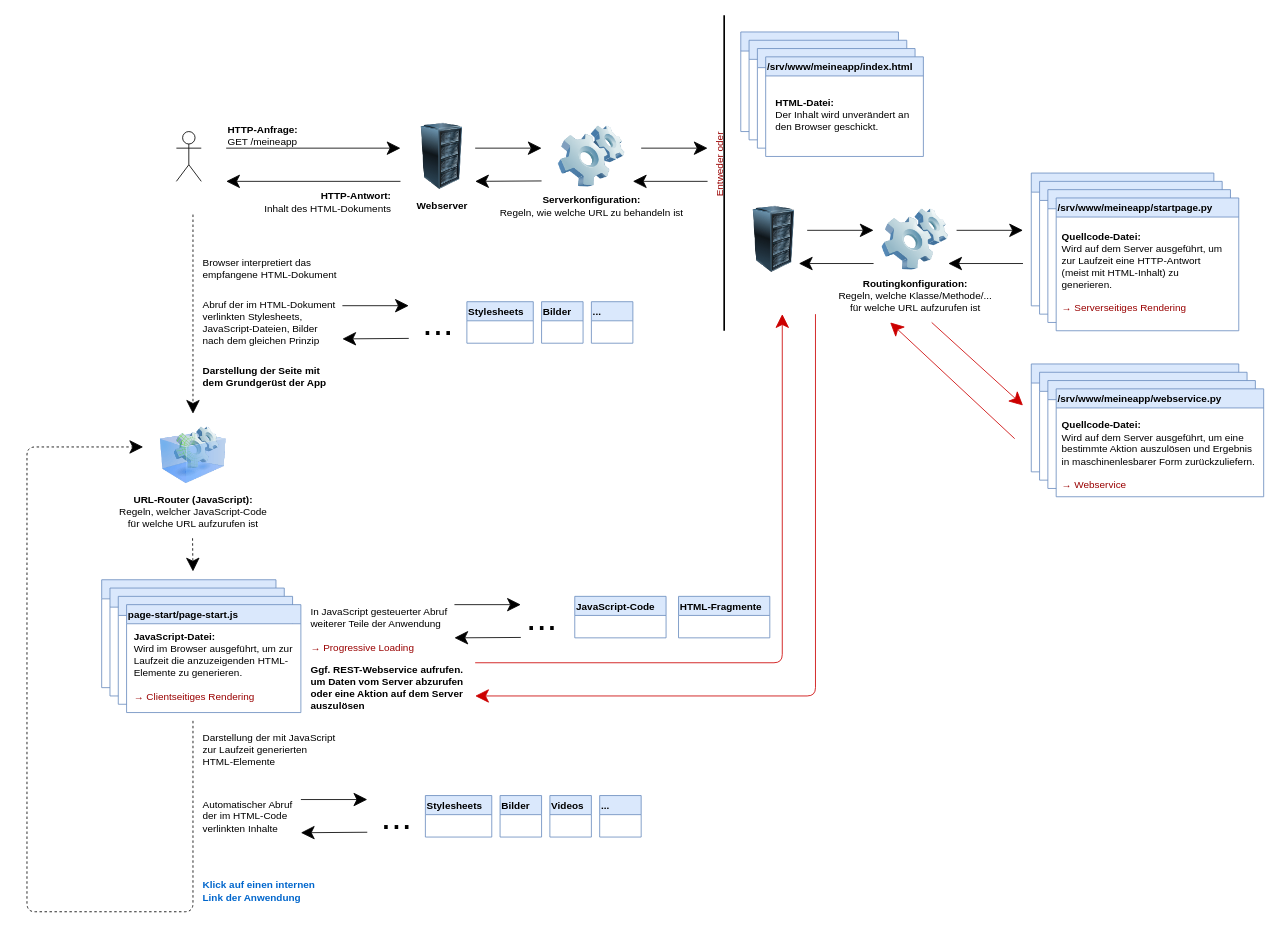
The diagram is 1278 pixels wide and 940 high, and some of its shapes have lost their labels. The shapes that lost their labels are listed below. From the top down, each one's centre as x and y in pixels, then its label:
At pixel 188 156: "Webbrowser".
At pixel 773 239: "Python/Java/PHP/... + Web-Framework".
